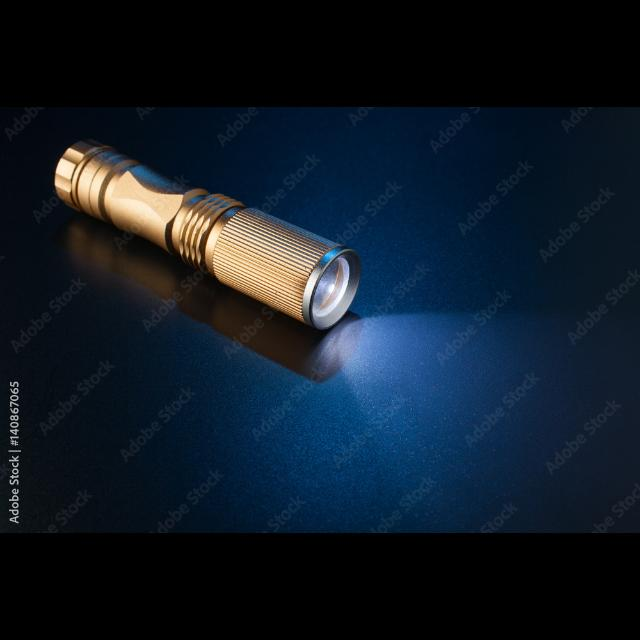Flashlight: (49, 137, 369, 337)
